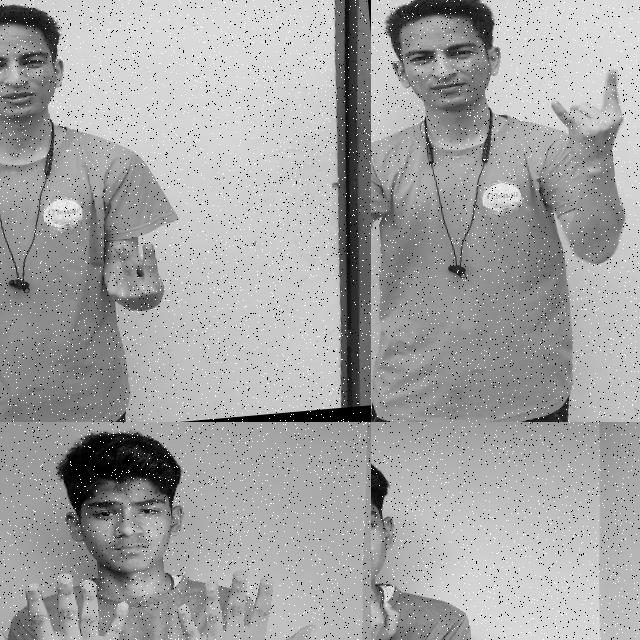Chin Flick: (371, 435, 425, 640)
Corna: (543, 59, 636, 172)
Moutza: (167, 558, 326, 640), (0, 563, 143, 640)
Reversed Victory: (98, 234, 170, 319)
